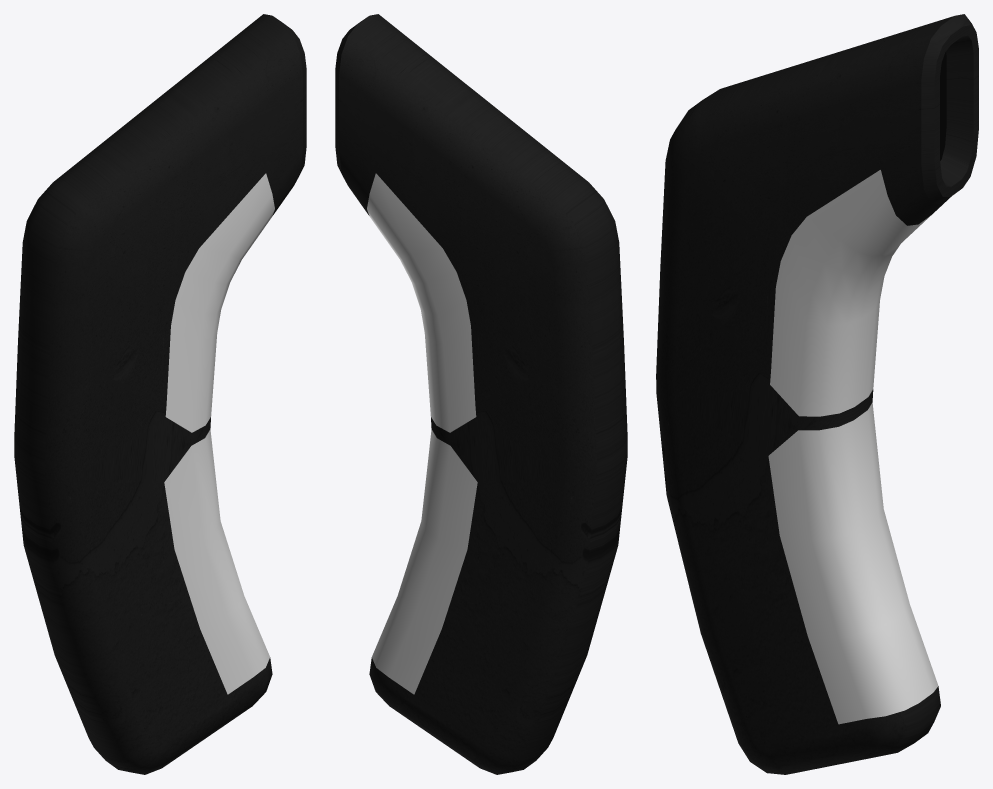
Rendered from SideGrip.fbx.
3 renders of one model, left to right at view 1: azimuth 30°, elevation 25°; view 2: azimuth 150°, elevation 25°; view 3: azimuth 330°, elevation 25°, orthographic. The views are drawn at different scales.
Parts seen in each view (by area): view 1: SideGrip; view 2: SideGrip; view 3: SideGrip.
Part boxes in pixels (x1,y1,x2,y2): SideGrip: (14,14,306,774); SideGrip: (335,14,627,774); SideGrip: (656,14,978,774).
Bounding box in the file's own units: 0.0932 × 0.2419 × 0.0297.
